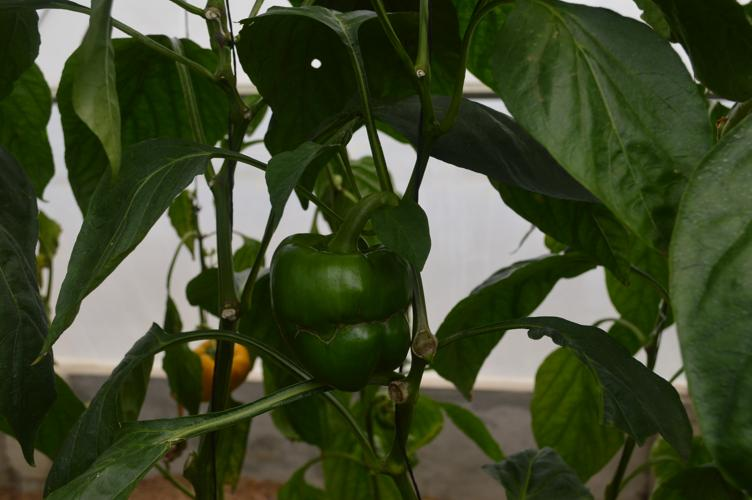BellPepper: (266, 235, 420, 326), (284, 320, 415, 390)
